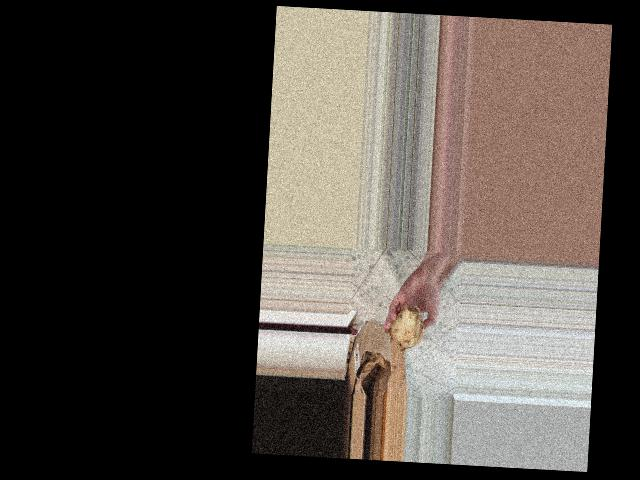onion: (387, 302, 428, 352)
